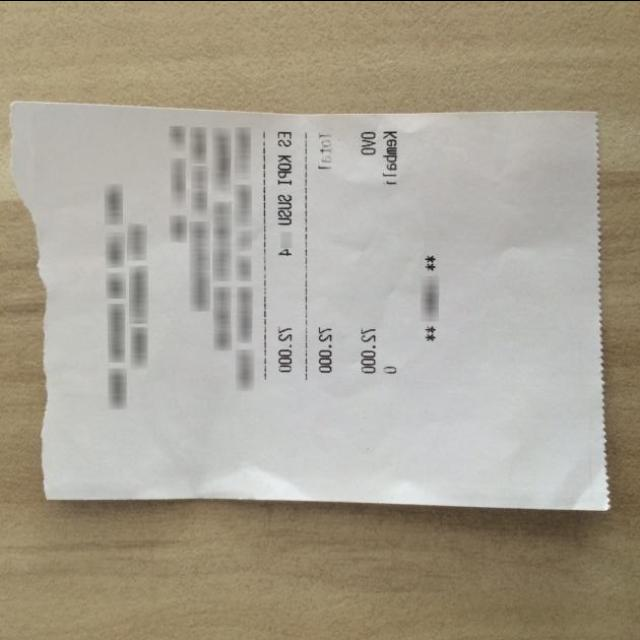kertas: (4, 100, 616, 510)
